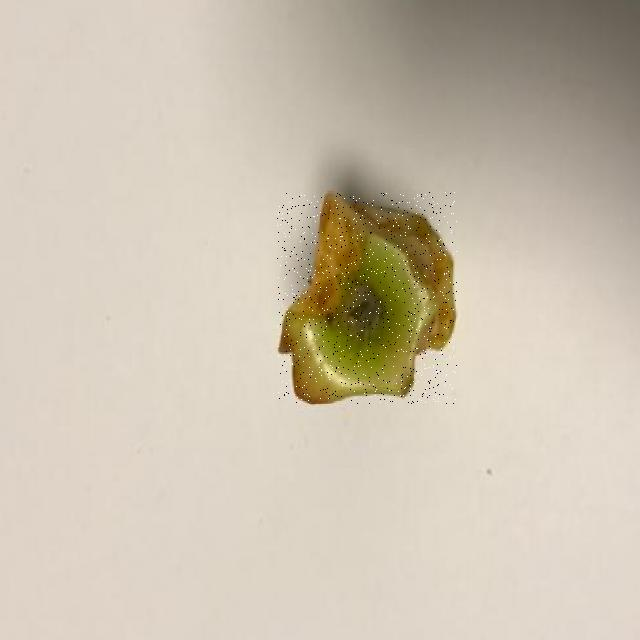biowaste: (277, 192, 457, 404)
